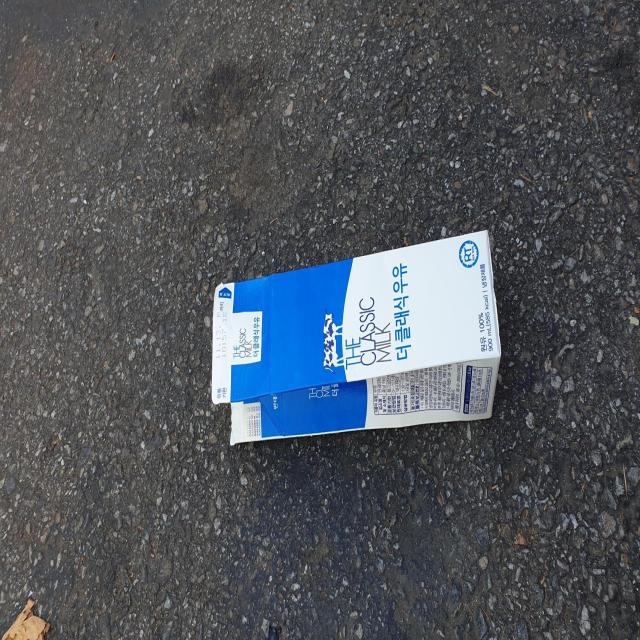paperpack: (211, 230, 502, 444)
